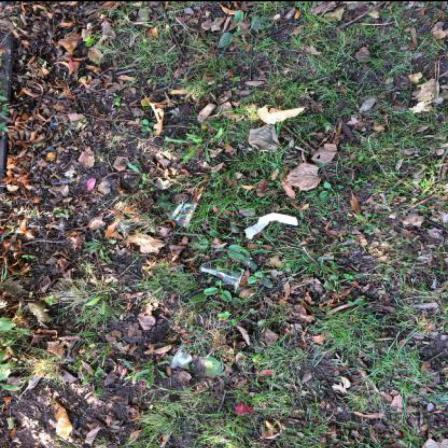Cup: (201, 263, 245, 293), (168, 192, 204, 228)
Other plastic: (173, 347, 194, 367)
Paper: (246, 213, 300, 239)
